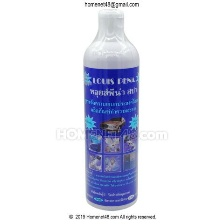cleaning_solution: (81, 5, 140, 213)
